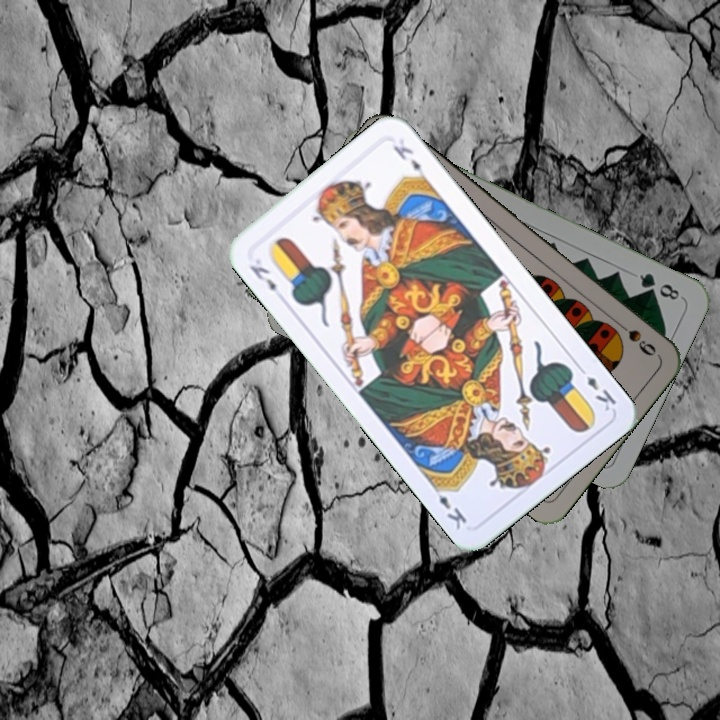EK: (573, 361, 619, 414), (245, 260, 279, 294)
G8: (635, 269, 682, 303)
S9: (610, 315, 659, 359)
